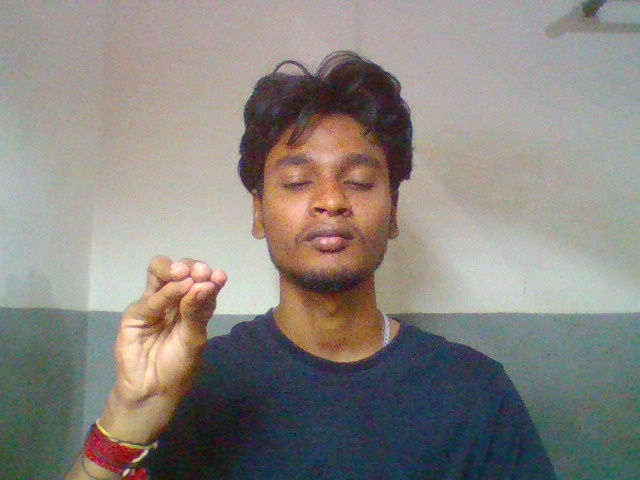Z: (93, 243, 265, 418)
